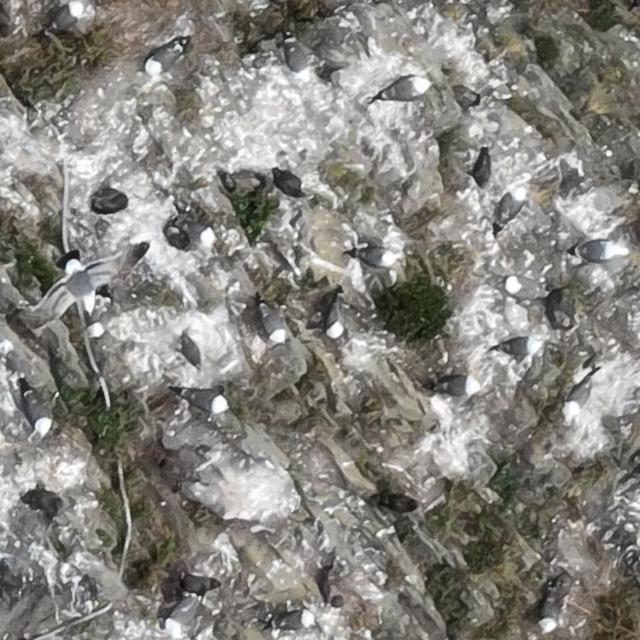F: (55, 259, 98, 311)
umineko: (172, 386, 227, 416), (377, 77, 432, 103), (42, 2, 84, 36), (145, 41, 187, 74), (496, 188, 527, 232), (287, 33, 311, 82), (563, 378, 592, 418), (165, 598, 196, 635), (506, 274, 546, 302), (491, 336, 541, 358), (174, 218, 216, 244), (267, 610, 316, 632), (429, 376, 480, 395), (326, 299, 347, 340), (355, 248, 395, 268), (573, 240, 614, 259), (541, 595, 561, 630), (30, 399, 50, 432), (262, 307, 283, 338), (74, 322, 106, 339)
